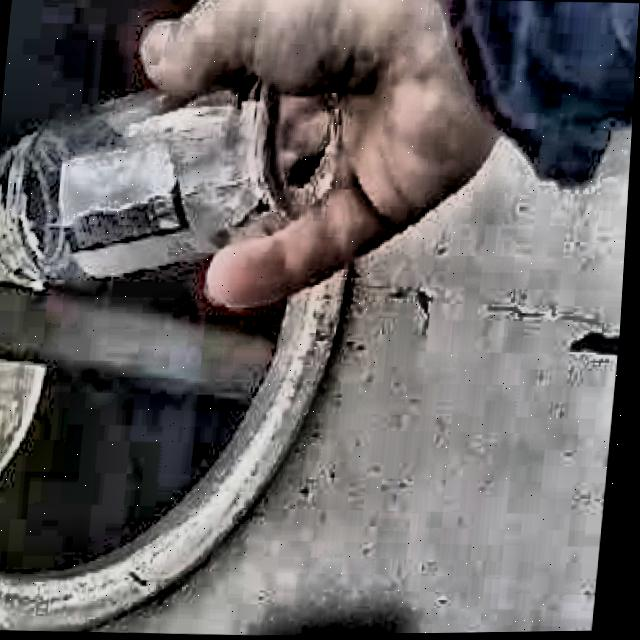glass: (0, 83, 341, 283)
